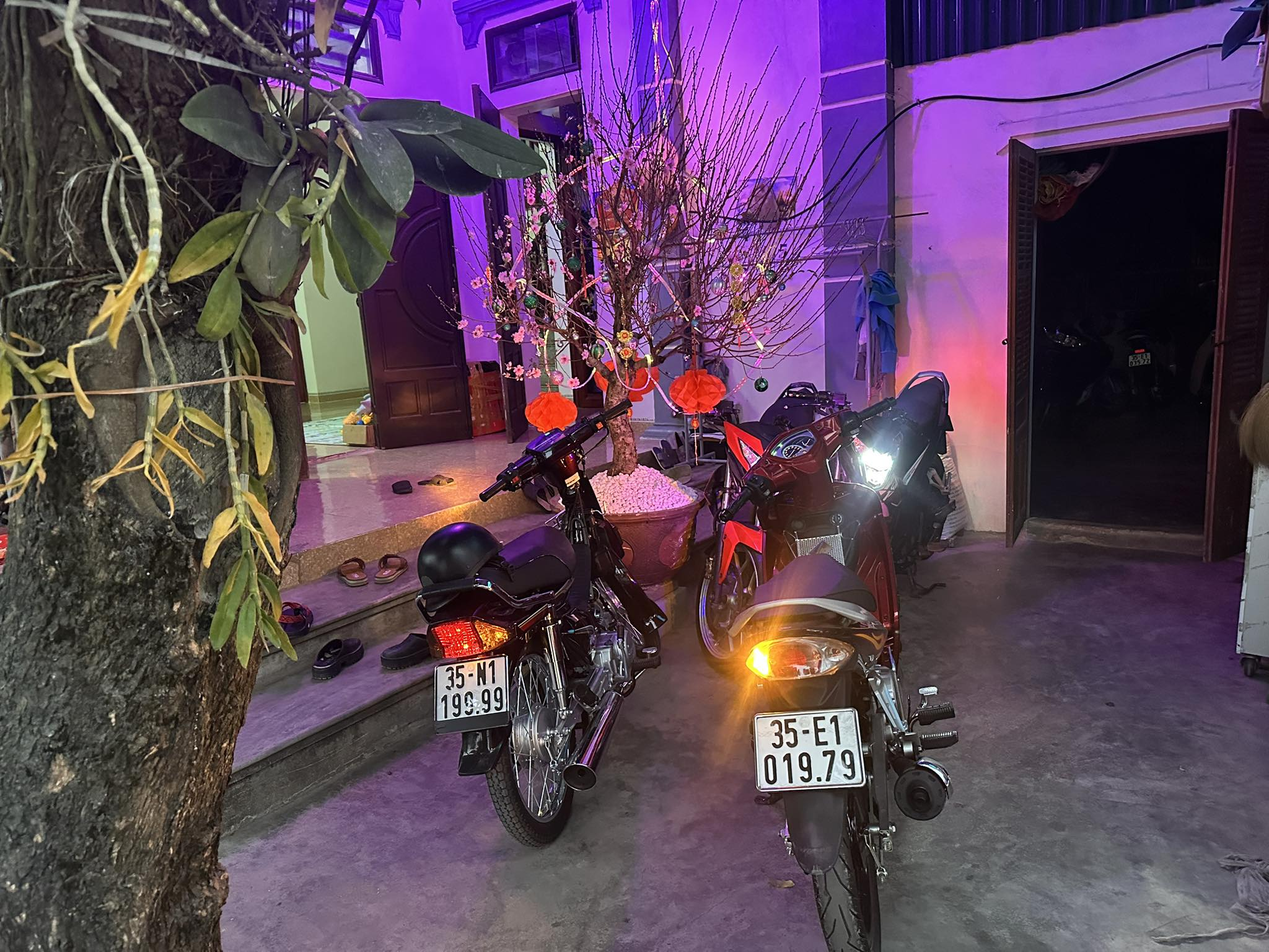bien_so: (750, 703, 869, 802), (429, 653, 520, 726)
